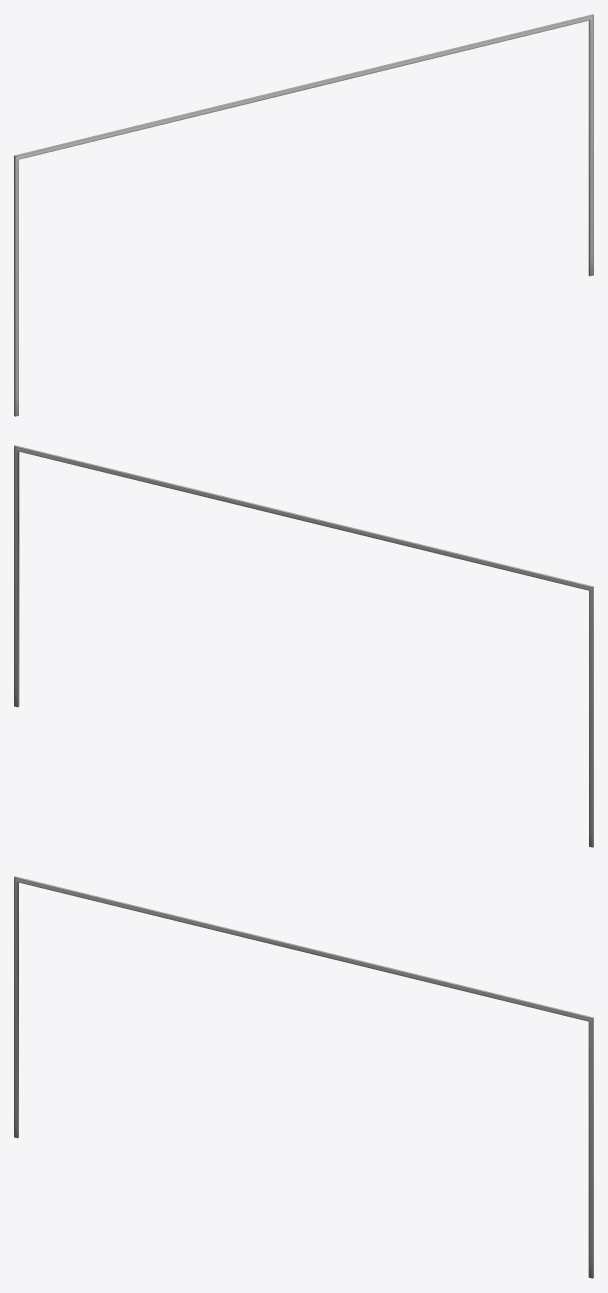
File: DoorFrameLight02_9.FBX
The picture shows the model from 3 angles, top to bottom: view 1: azimuth 30°, elevation 25°; view 2: azimuth 150°, elevation 25°; view 3: azimuth 330°, elevation 25°; orthographic projection.
Visible parts, largest first — view 1: Light02_9; view 2: Light02_9; view 3: Light02_9.
Part boxes in pixels (x1,y1,x2,y2): Light02_9: (14,14,593,416); Light02_9: (14,445,593,847); Light02_9: (14,876,593,1278).
Bounding box in the file's own units: 710 × 305 × 2.61.
